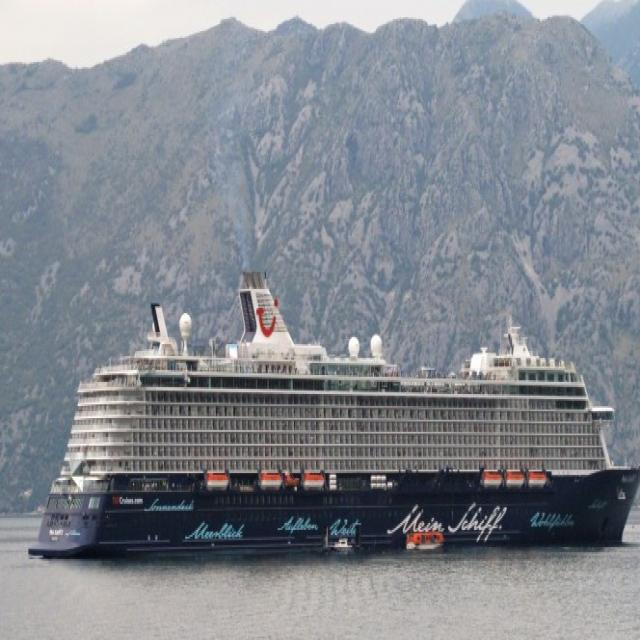cruises: (23, 259, 640, 560)
